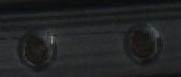joints: (17, 26, 58, 69), (123, 22, 163, 63)
